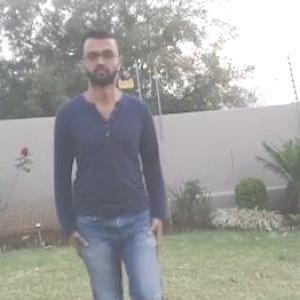follow: (60, 38, 167, 299)
